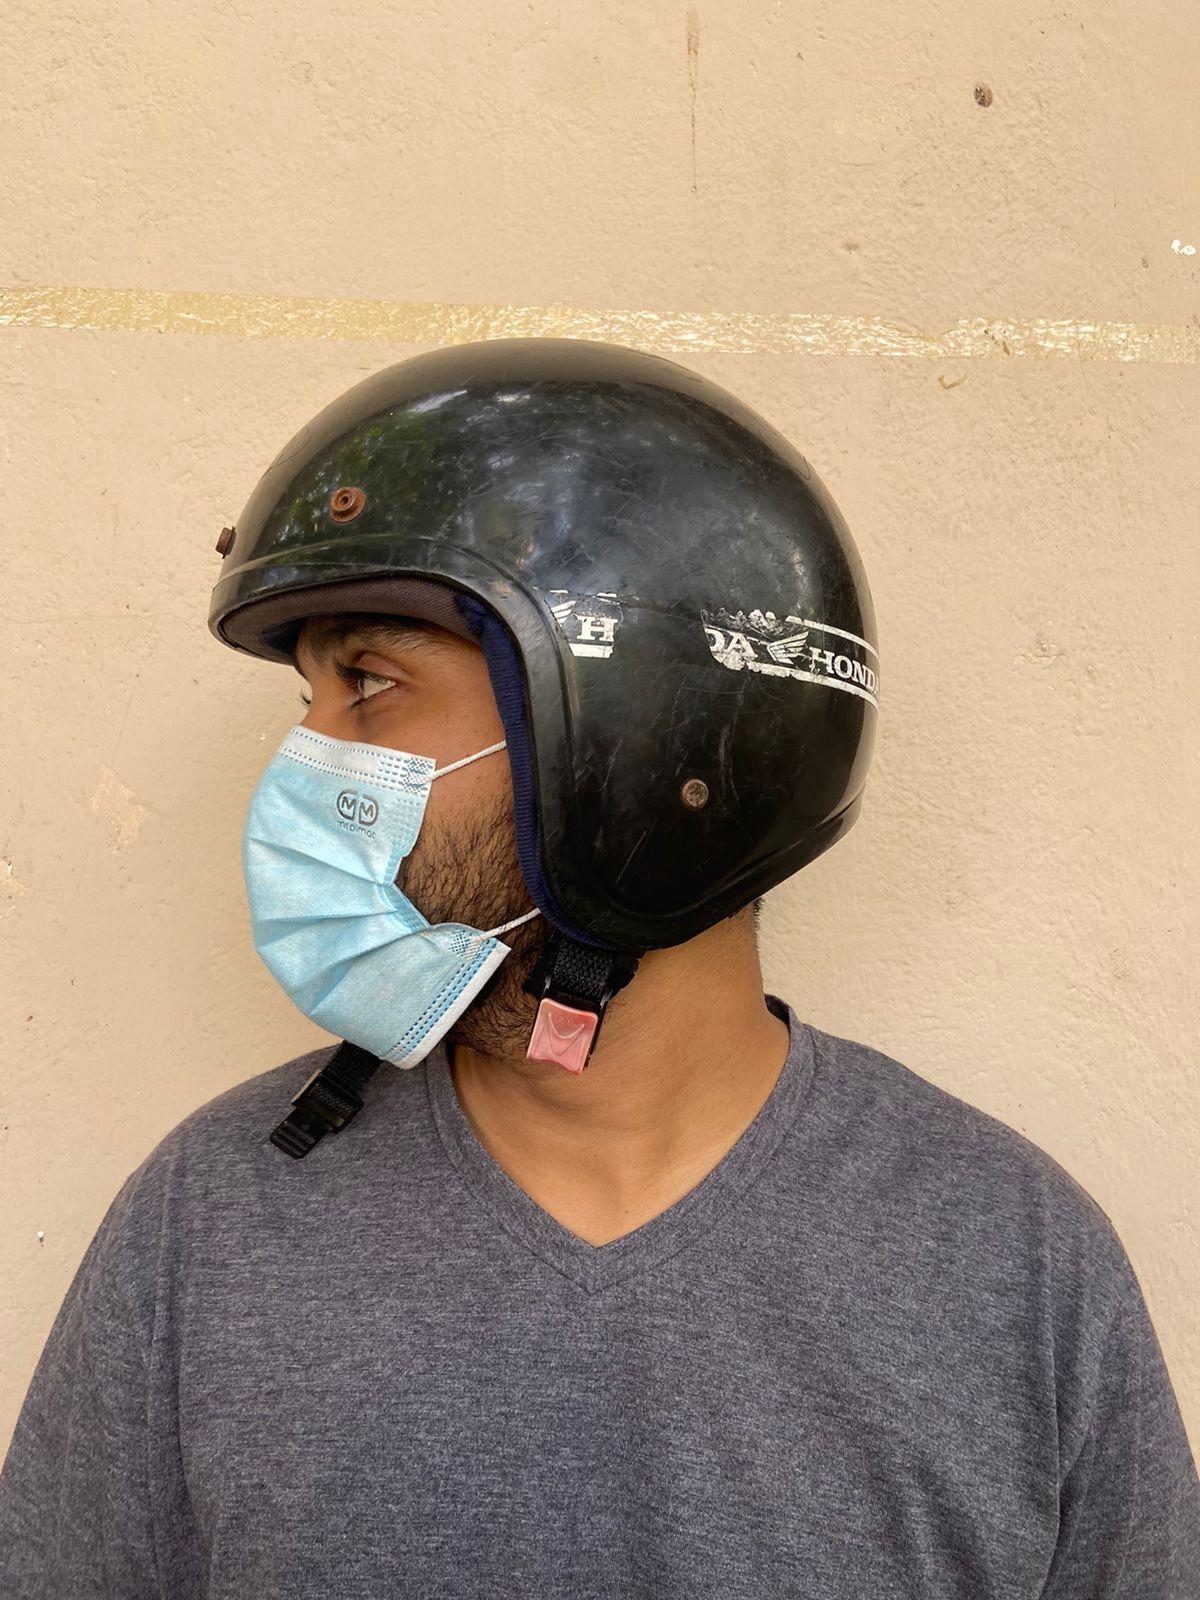helmet: (204, 333, 884, 949)
